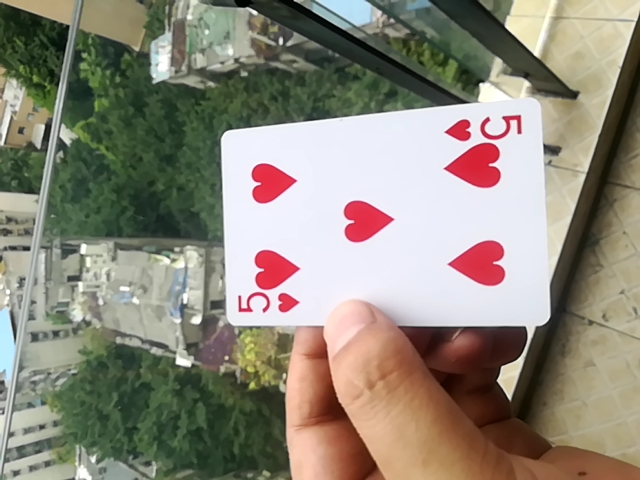hx 5: (217, 93, 553, 332)
